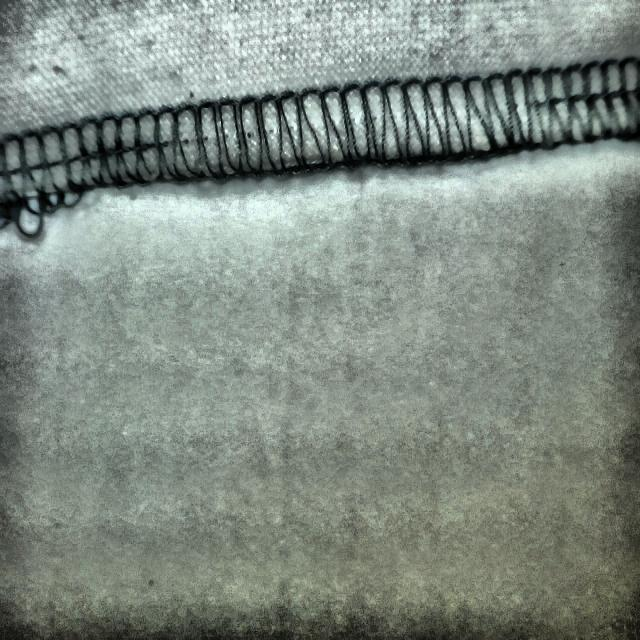gray stitch: (2, 127, 88, 241)
